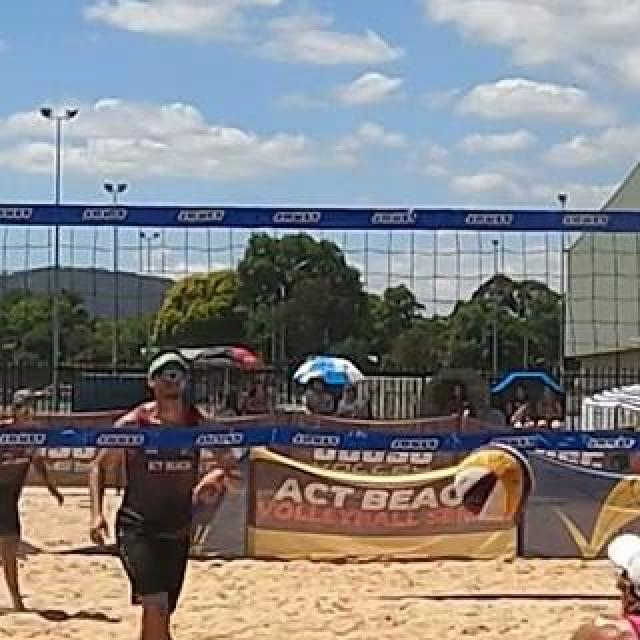volleyball: (454, 442, 536, 522)
